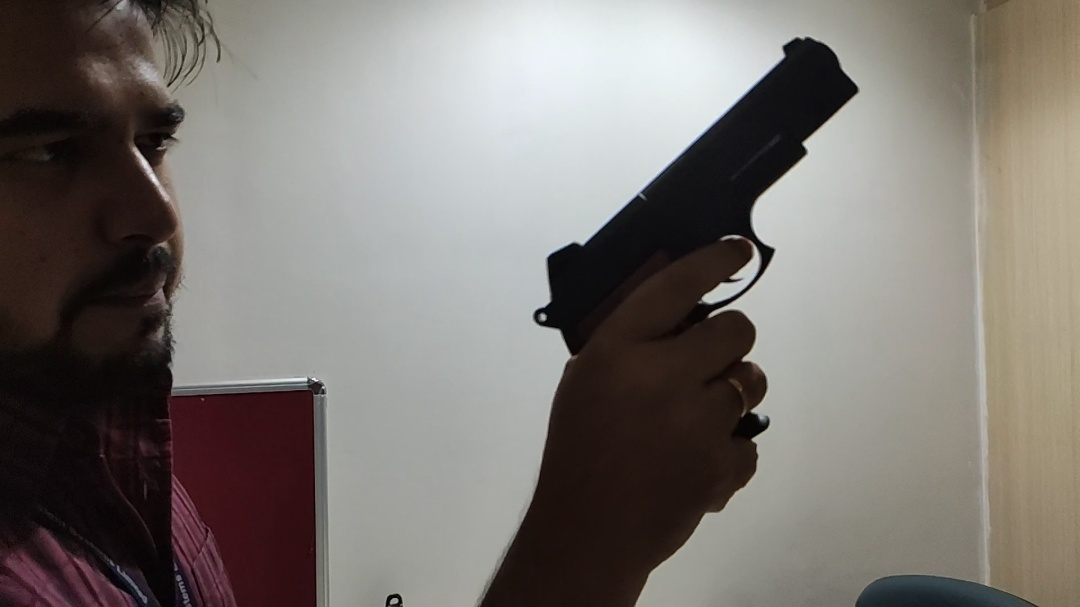gun: (531, 31, 864, 448)
